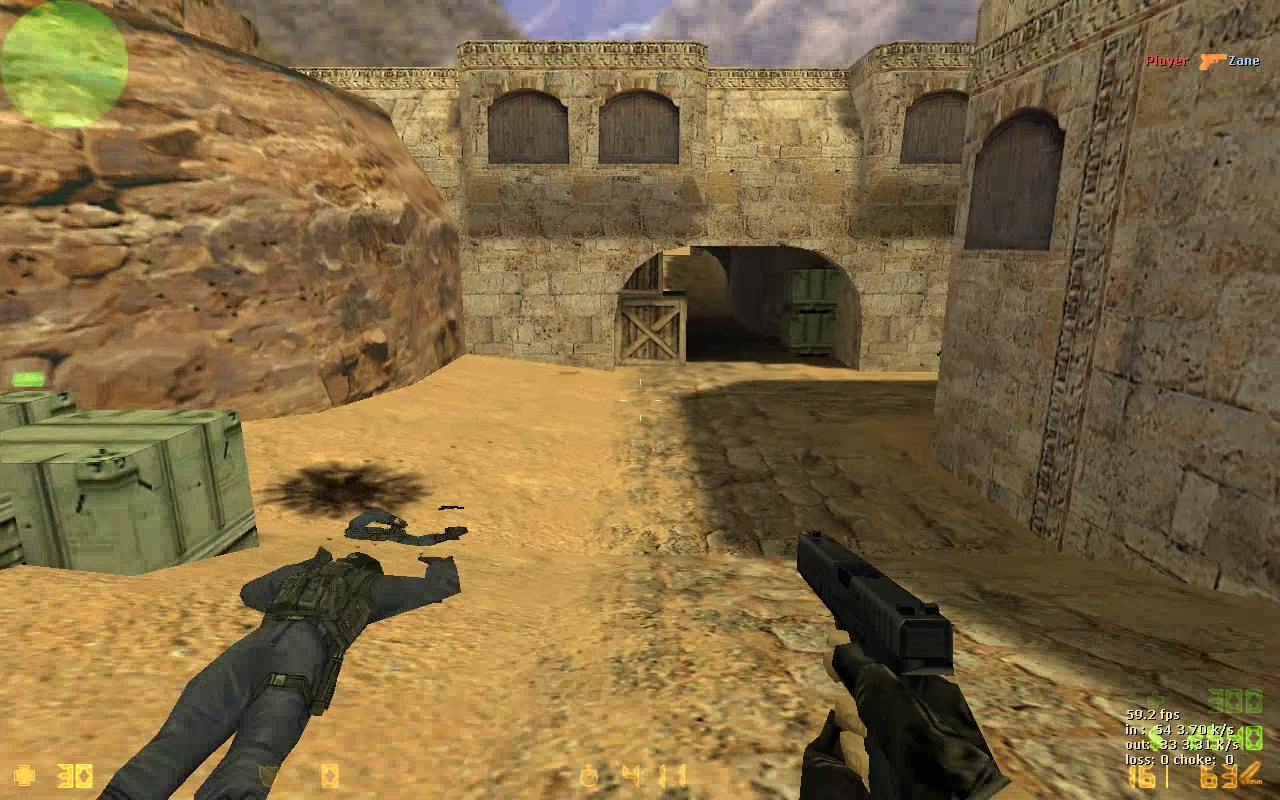dead: (94, 556, 470, 794), (347, 507, 472, 555)
